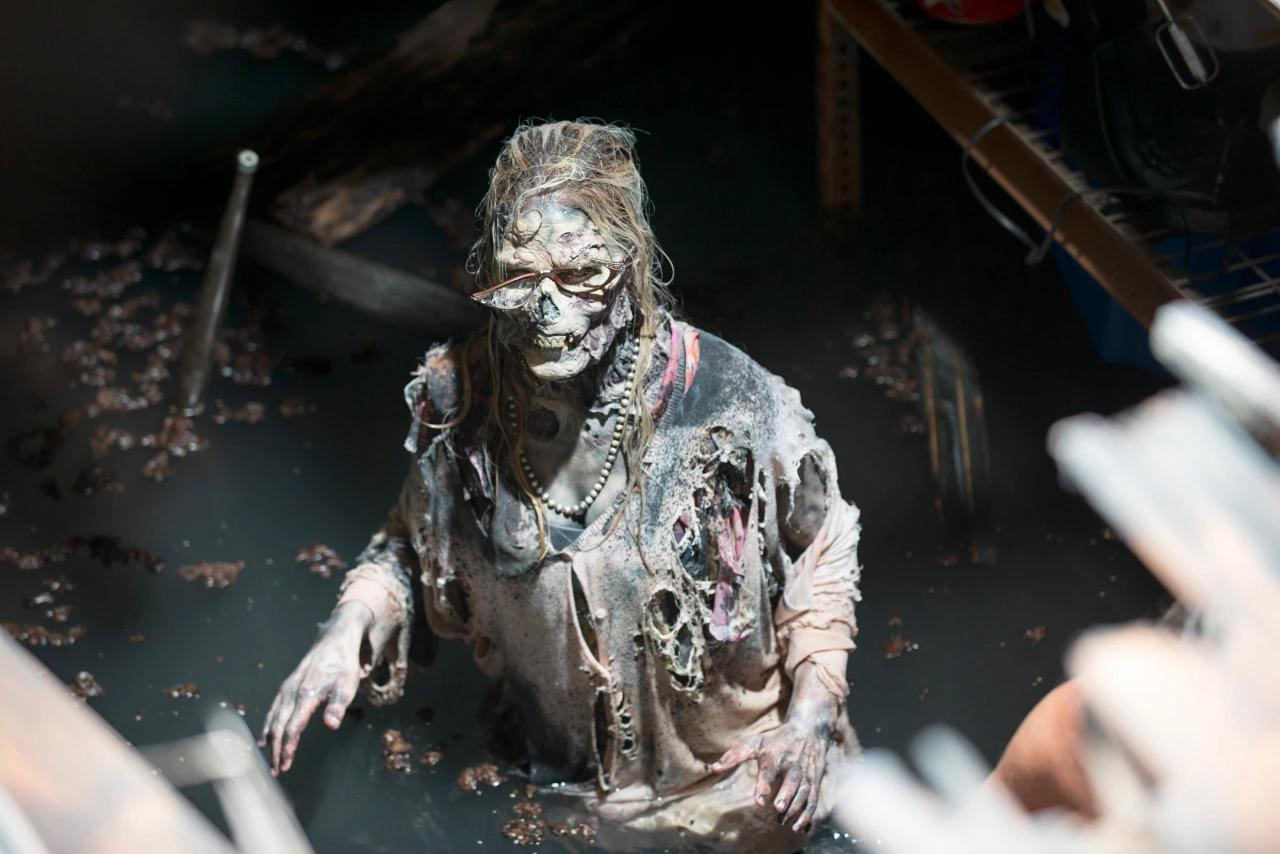Zombie: (478, 141, 632, 393)
